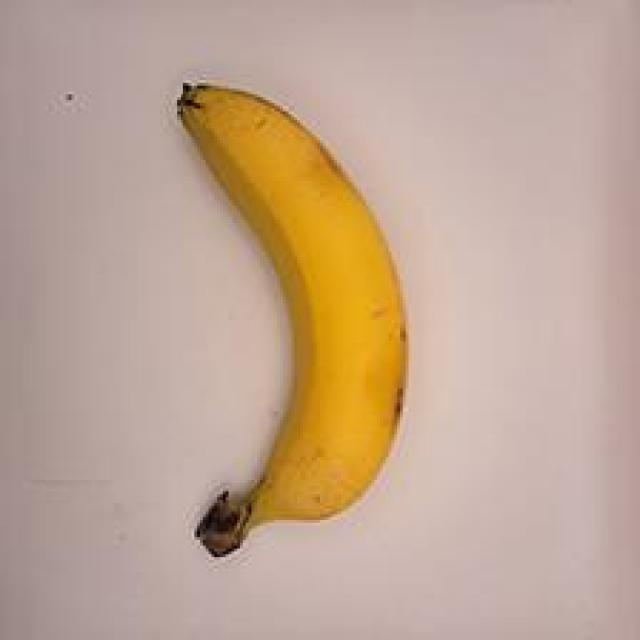Ripe: (122, 69, 420, 576)
